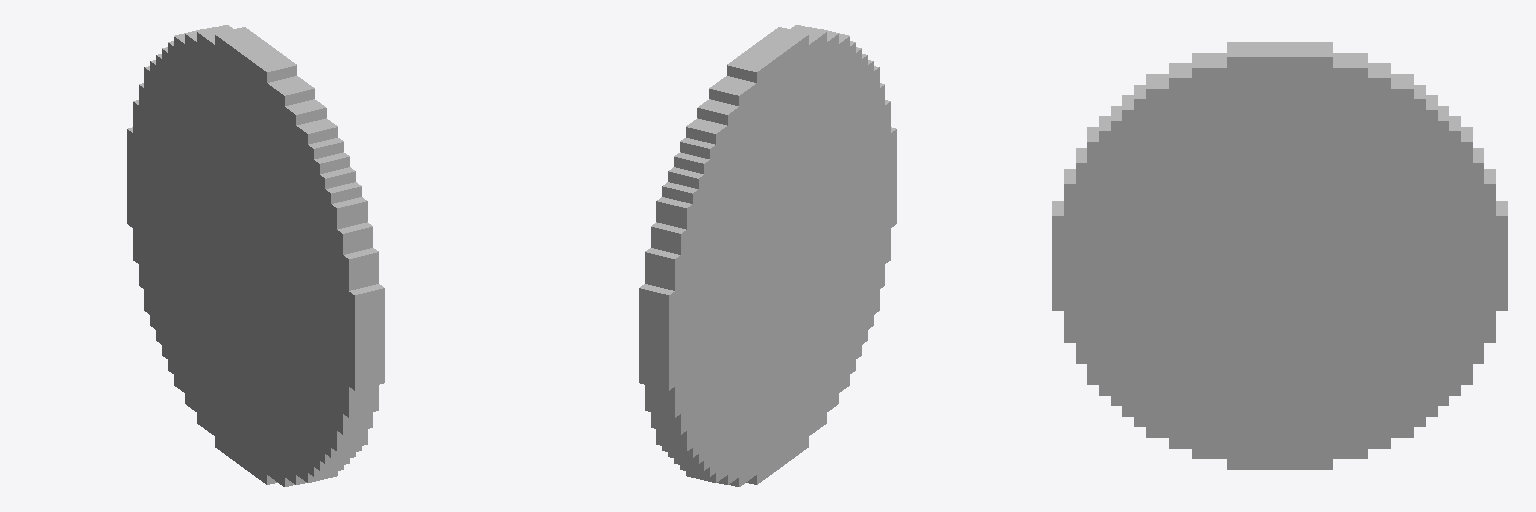
File: Coin.obj
3 renders of one model, left to right at view 1: azimuth 30°, elevation 25°; view 2: azimuth 150°, elevation 25°; view 3: azimuth 270°, elevation 25°, orthographic.
Parts seen in each view (by area): view 1: object 1; view 2: object 1; view 3: object 1.
Part boxes in pixels (x1,y1,x2,y2): object 1: (127,25,384,486); object 1: (639,25,896,486); object 1: (1052,42,1507,469).
Size of the model in its own units: 0.3 by 3.9 by 3.9.